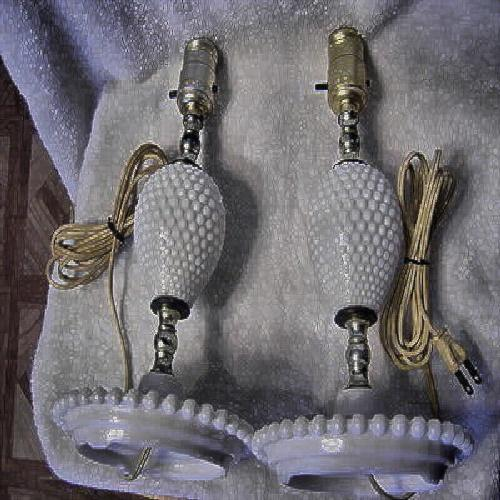lamp: (277, 57, 478, 479), (66, 57, 257, 474)
